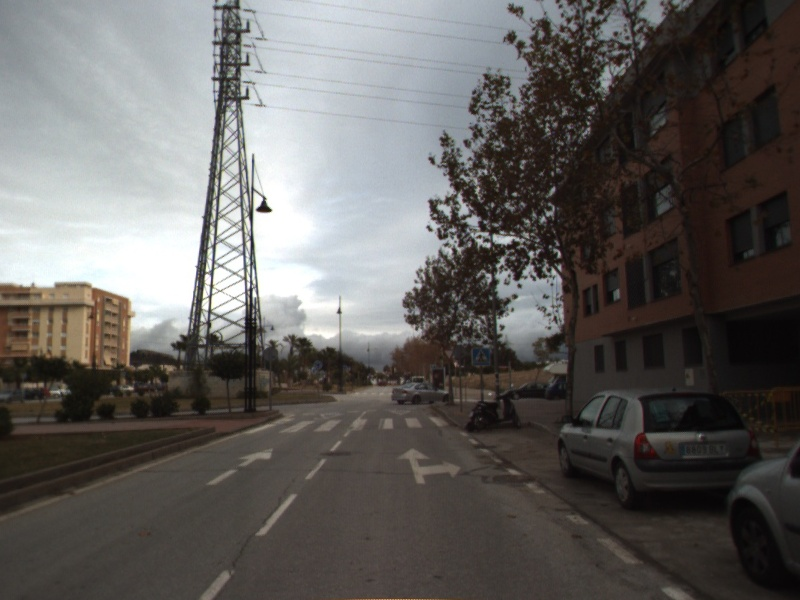STRAIGHT: (204, 446, 275, 487)
STRAIGHT_RIGHT: (395, 446, 463, 485)
